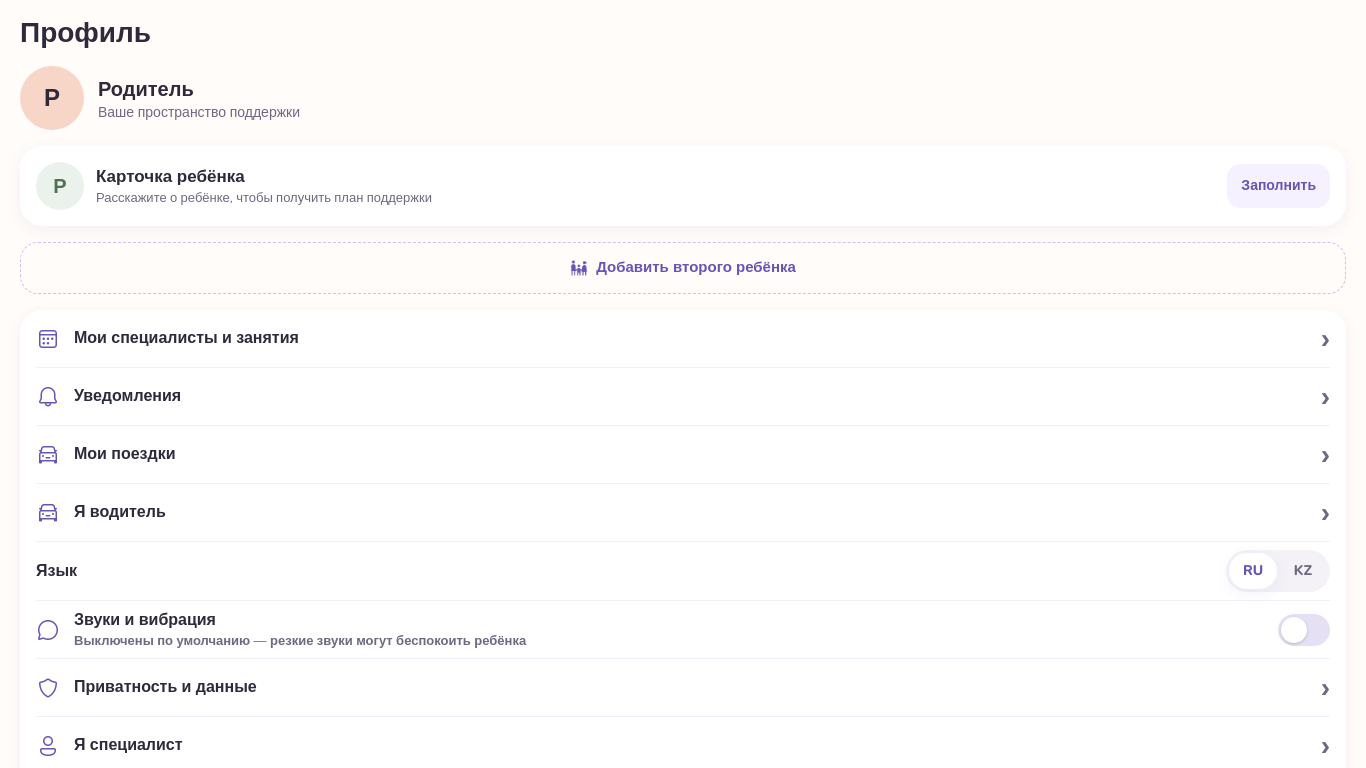
Test: support safety and profile › profile switches to Kazakh and persists the language
The image size is (1366, 768).
Step 1. Click the button "KZ" → {"x": 1303, "y": 571}, box [1279,553,1327,589]
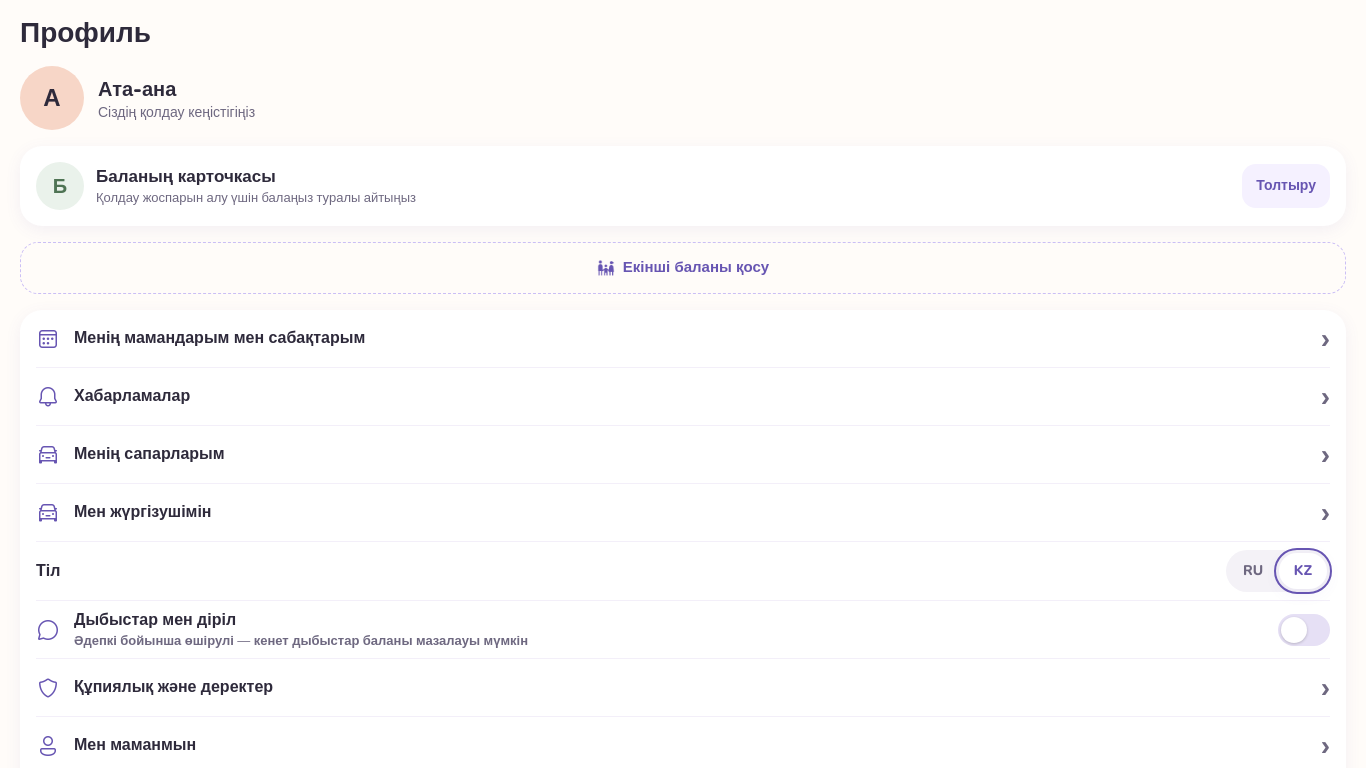
Expected: the text "Ата-ана" is shown, [98,76,176,102]
